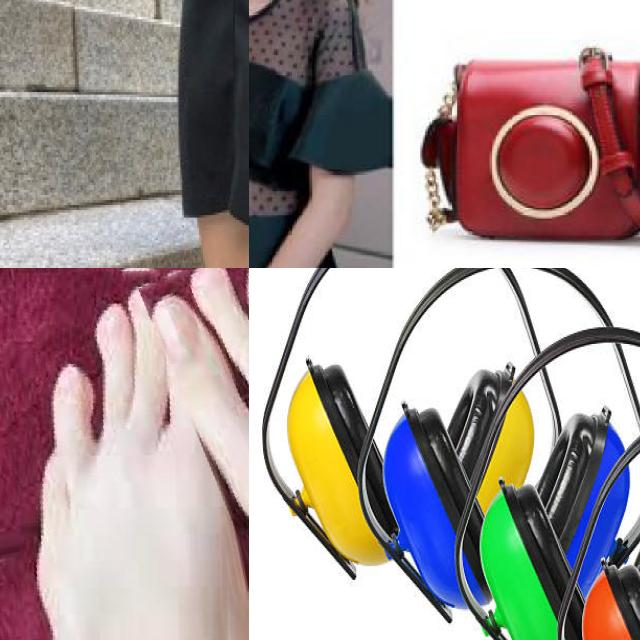Barefoots: (25, 268, 249, 640)
Ear-protection: (355, 268, 581, 624), (452, 328, 640, 640), (256, 268, 401, 587), (535, 350, 640, 587)
person: (249, 0, 383, 268)
